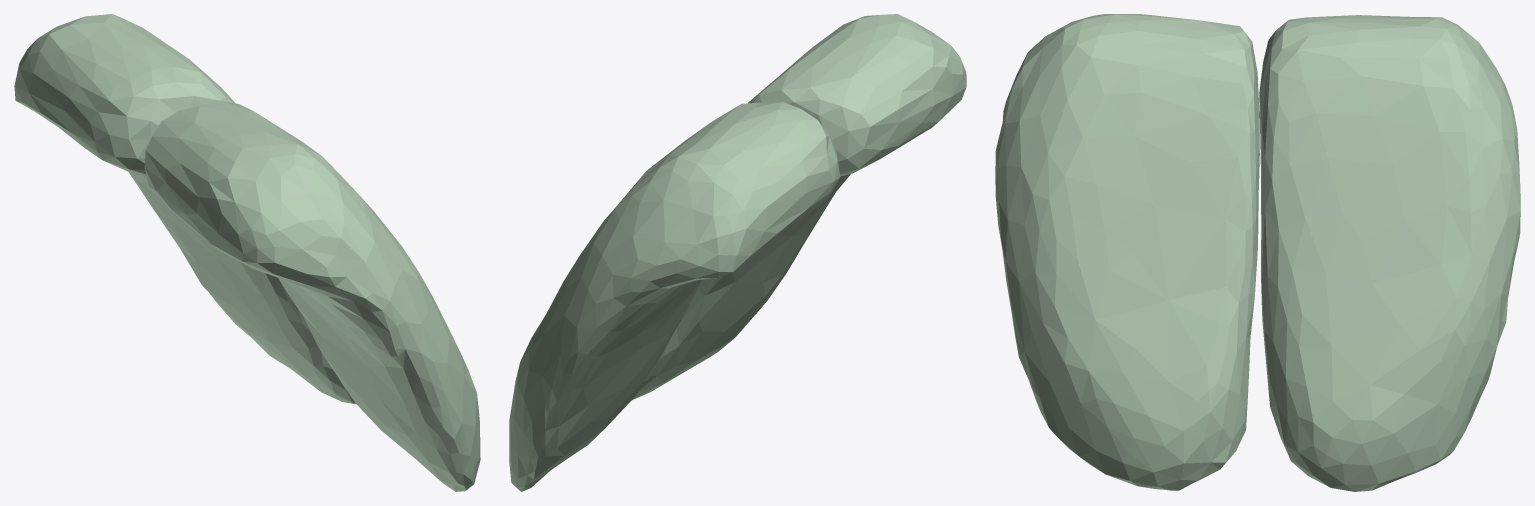
3 views of the same model, side by side, from view 1: azimuth 30°, elevation 25°; view 2: azimuth 150°, elevation 25°; view 3: azimuth 270°, elevation 25° (orthographic). The views are drawn at different scales.
Parts seen in each view (by area): view 1: 814.obj; view 2: 814.obj; view 3: 814.obj.
Boxes of the visible parts, x1=… form: 814.obj: x1=14, y1=14, x2=480, y2=491; 814.obj: x1=509, y1=14, x2=966, y2=491; 814.obj: x1=995, y1=14, x2=1520, y2=491.
Bounding box in the file's own units: 930 × 1216 × 1560.
